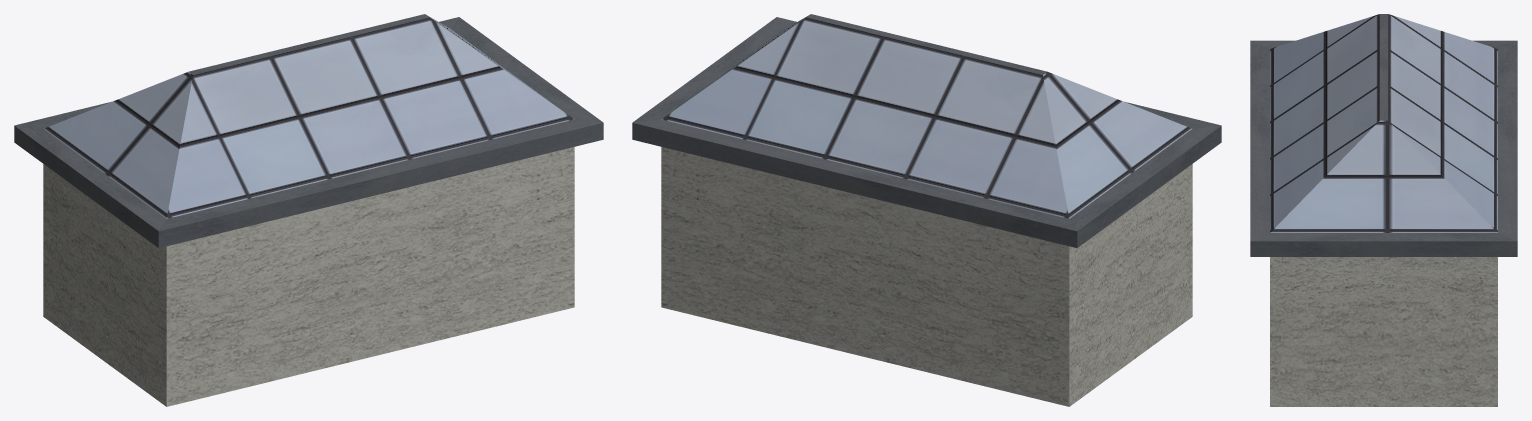
Rendered from roof addon1.FBX.
3 renders of one model, left to right at view 1: azimuth 30°, elevation 25°; view 2: azimuth 150°, elevation 25°; view 3: azimuth 270°, elevation 25°, orthographic. The views are drawn at different scales.
Visible parts, largest first — view 1: roof addon1; view 2: roof addon1; view 3: roof addon1.
Boxes of the visible parts, x1,y1,x2,y2 form: roof addon1: [14, 14, 603, 406]; roof addon1: [632, 14, 1221, 406]; roof addon1: [1250, 14, 1517, 406].
Bounding box in the file's own units: 12.51 × 7.19 × 7.04.
